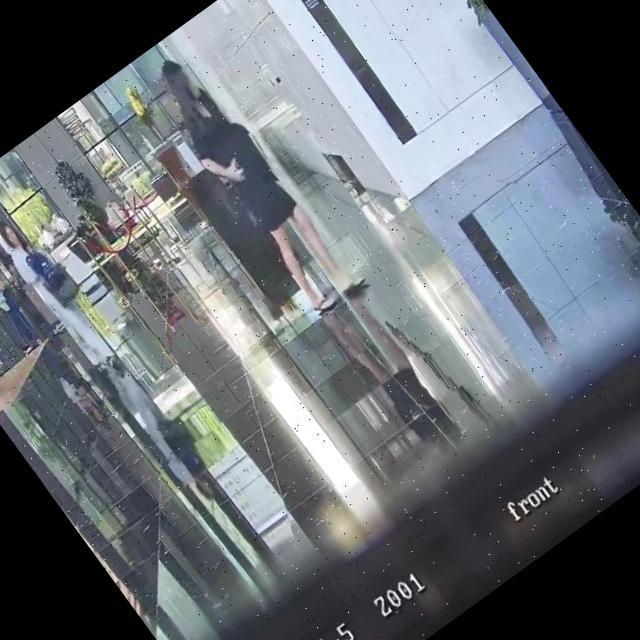person: (140, 39, 370, 322), (0, 212, 117, 373), (0, 252, 45, 351), (0, 216, 46, 286), (69, 211, 98, 242), (36, 222, 61, 250), (49, 210, 74, 238)
